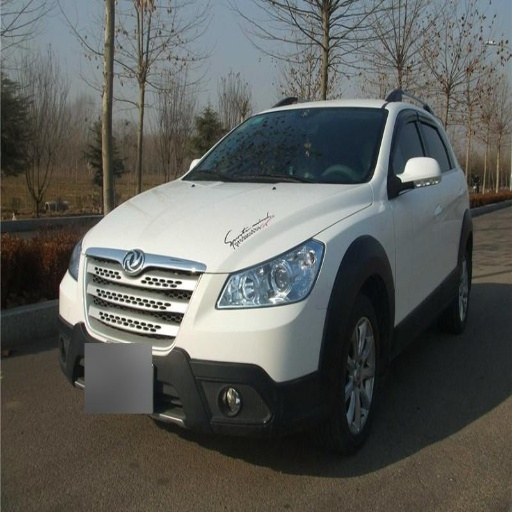front_bumper: (63, 248, 330, 441)
front_glass: (185, 108, 388, 183)
front_left_door: (389, 108, 442, 319)
